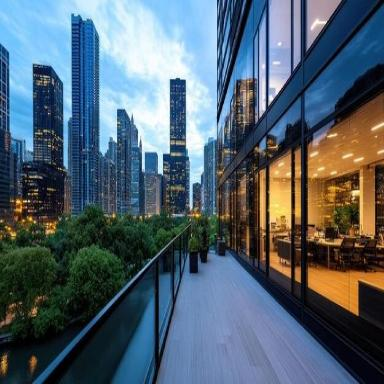glass_panel: (310, 92, 383, 269), (269, 149, 294, 278), (268, 1, 291, 110), (327, 171, 361, 237), (305, 0, 341, 54), (258, 4, 268, 118), (249, 157, 258, 263), (250, 30, 258, 128), (262, 161, 269, 270), (262, 3, 268, 115), (223, 177, 232, 248), (376, 164, 384, 243), (232, 174, 240, 252), (296, 0, 304, 69), (266, 124, 279, 161), (231, 94, 238, 146)
